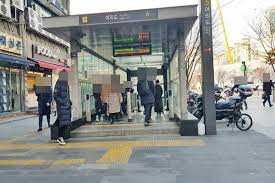guide_blocks: (3, 141, 203, 147), (99, 147, 132, 164), (1, 159, 84, 165)
